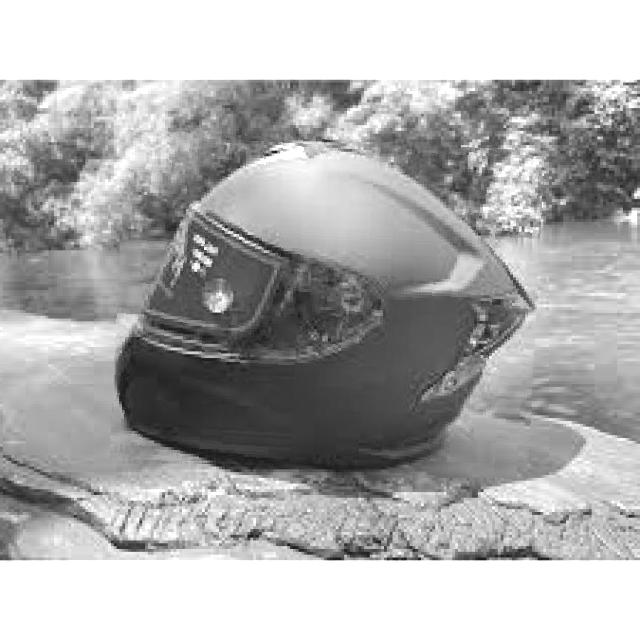helmet: (114, 135, 541, 474)
